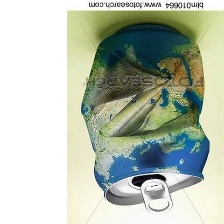can: (79, 20, 212, 216)
